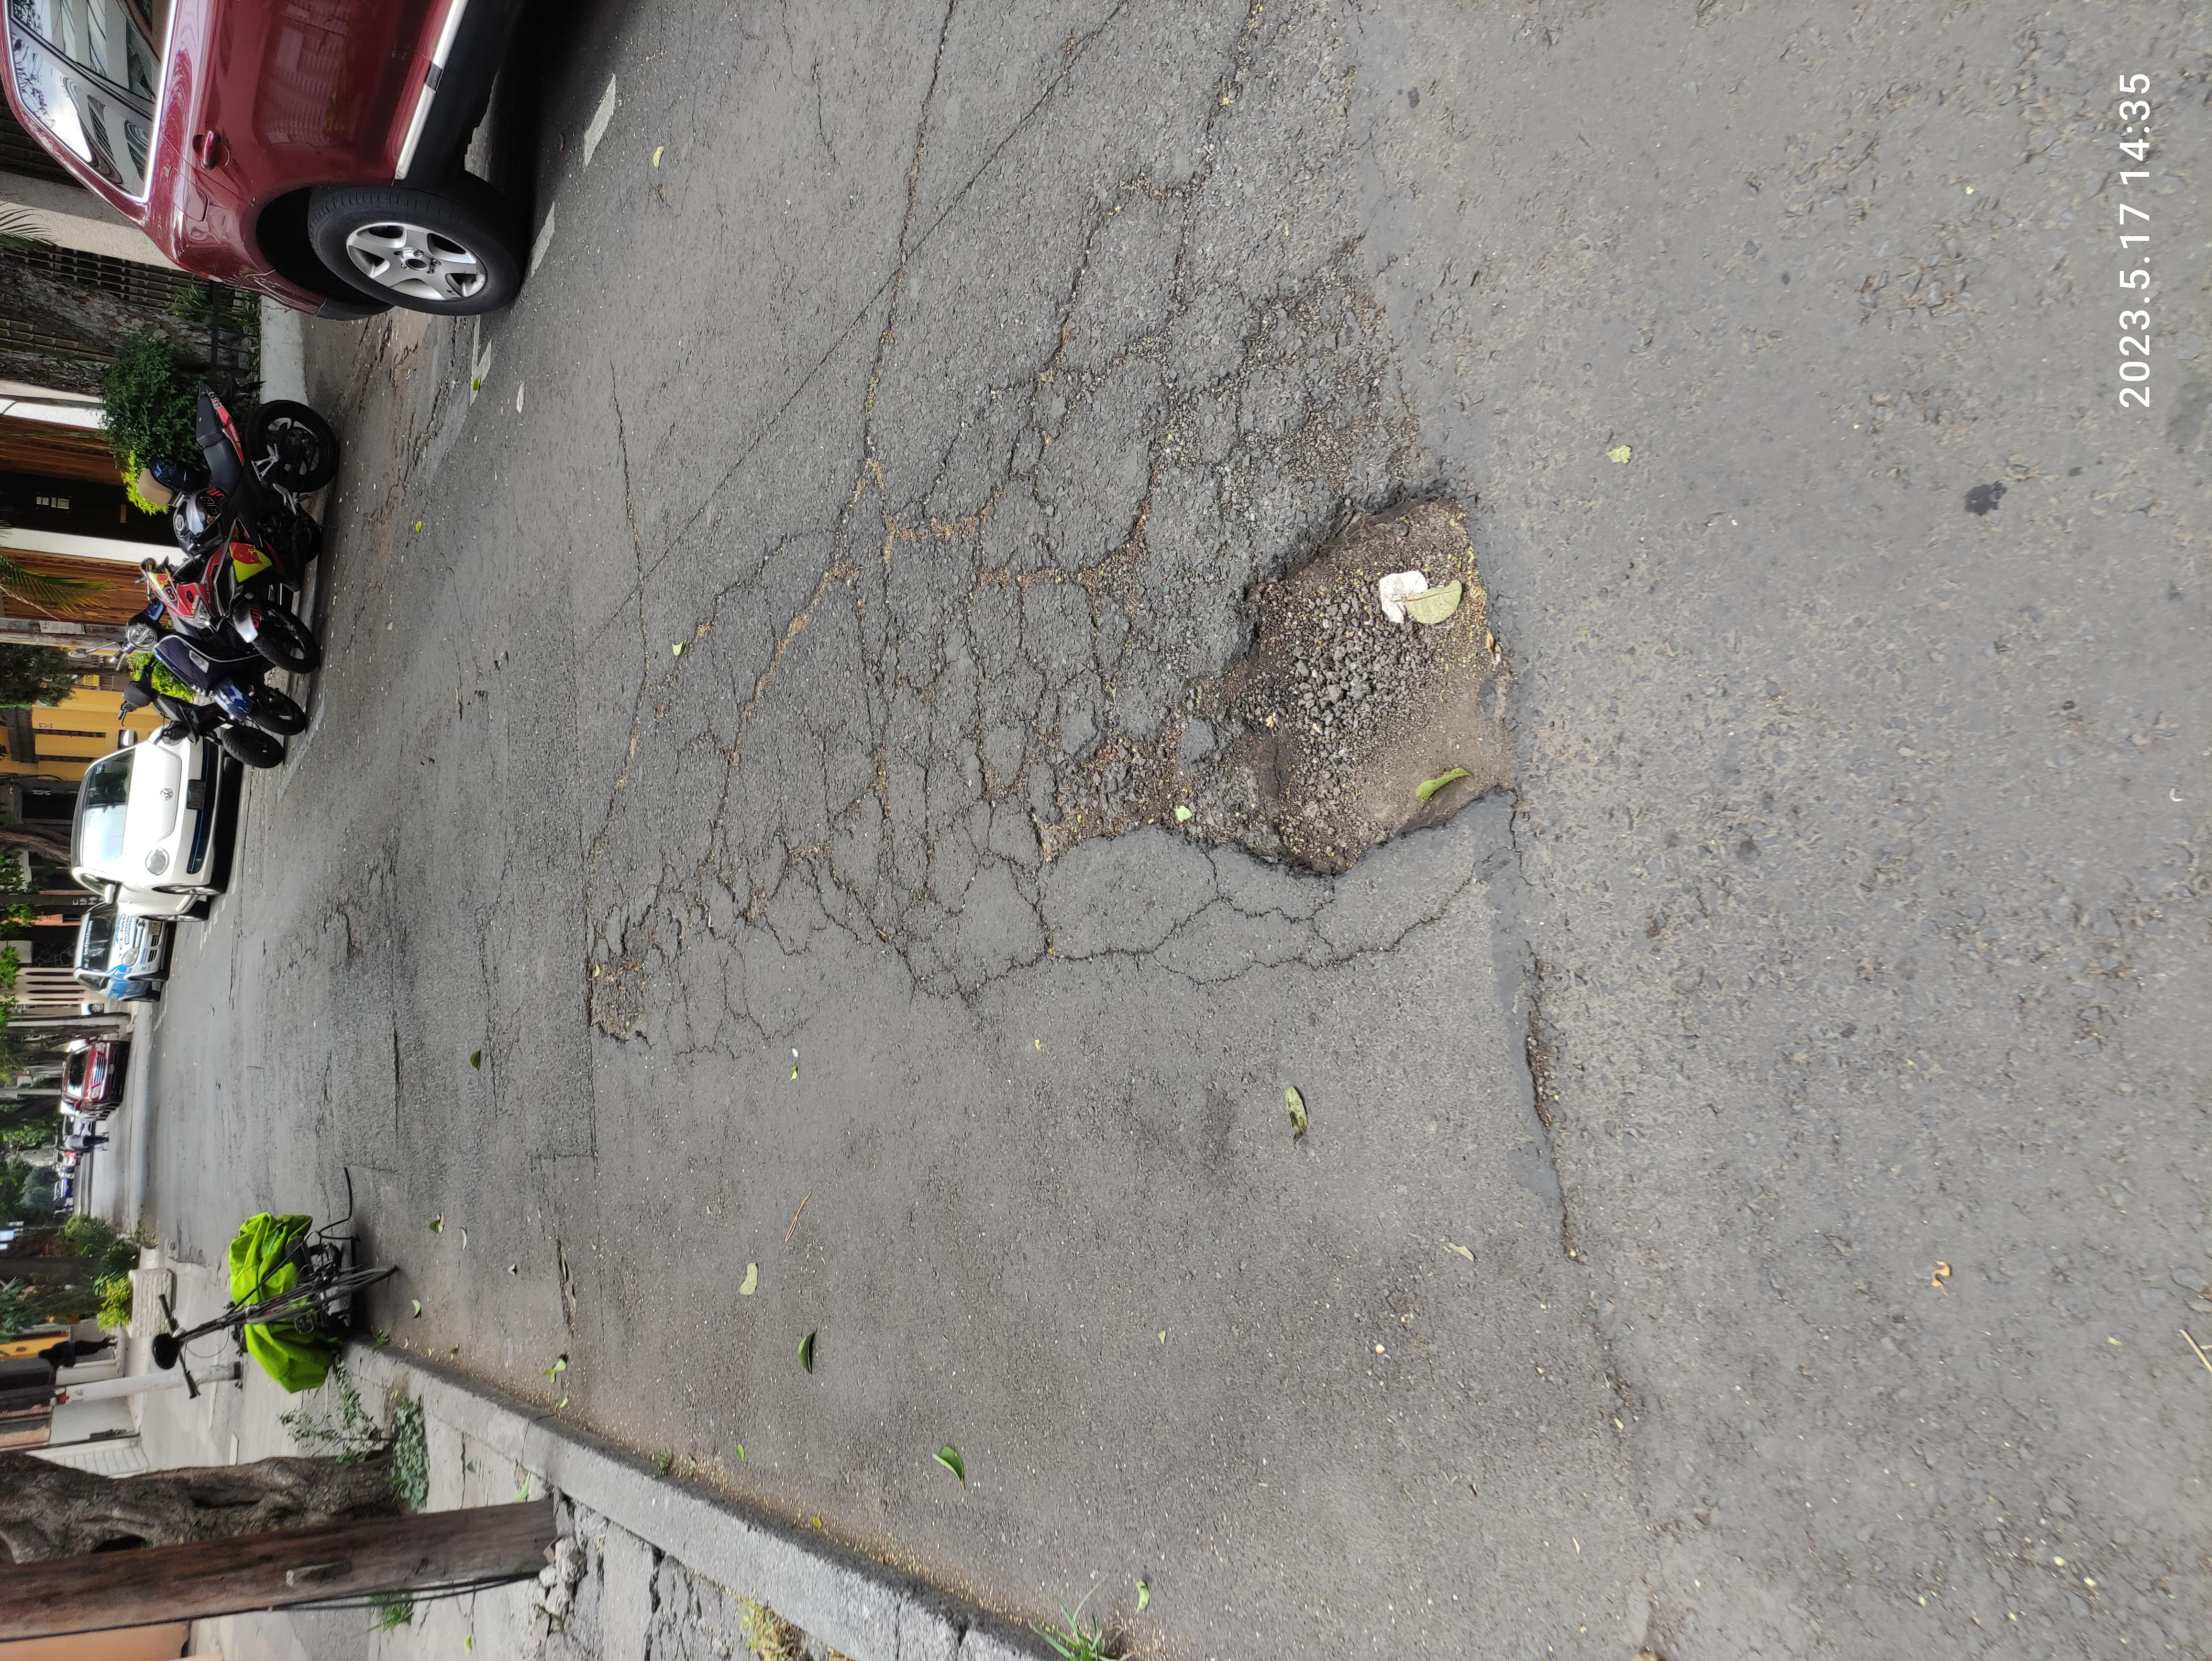alligator-crack: (911, 530, 1586, 910)
pothole: (1017, 892, 1602, 1149)
